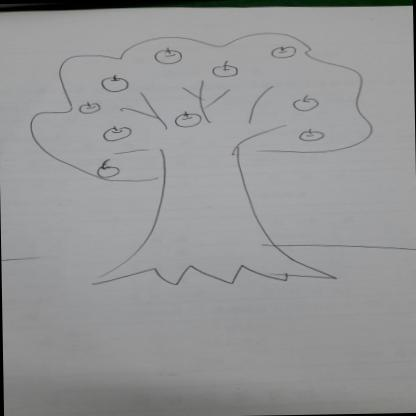apple: (99, 74, 131, 93), (90, 158, 120, 178), (152, 46, 184, 64), (100, 124, 132, 141), (292, 94, 321, 112), (172, 111, 202, 127), (210, 60, 238, 76), (270, 44, 297, 58), (76, 100, 100, 115), (299, 128, 324, 140)
branch_line: (109, 78, 289, 162)
crown_cloud: (25, 30, 372, 184)
root_upside: (87, 226, 338, 286)
trunk_straight: (142, 162, 270, 242)
